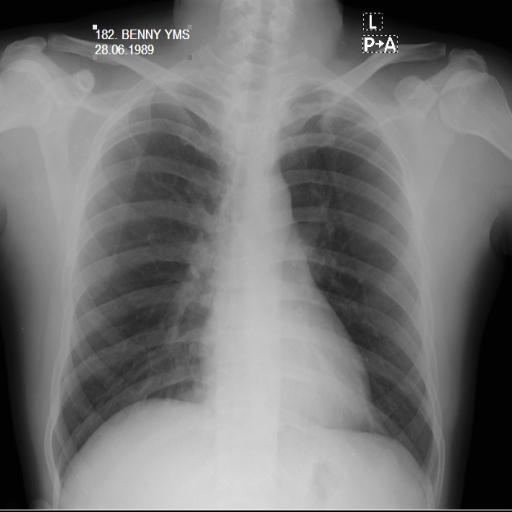normal: (39, 32, 451, 504)
